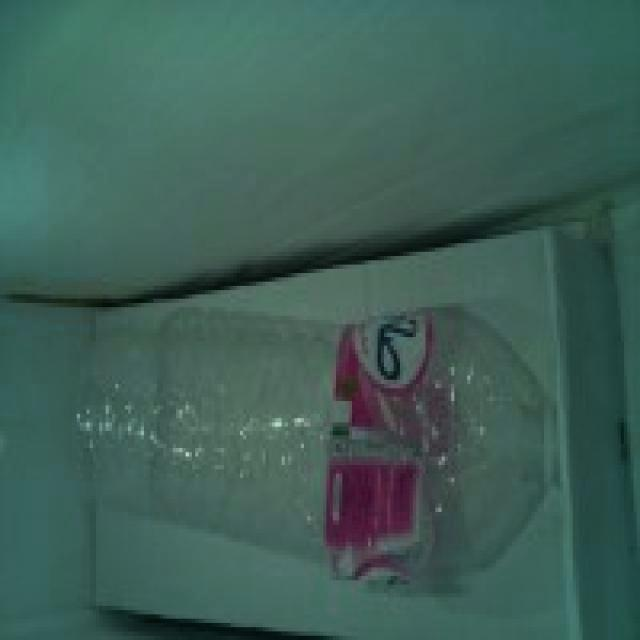bottle: (74, 305, 561, 597)
